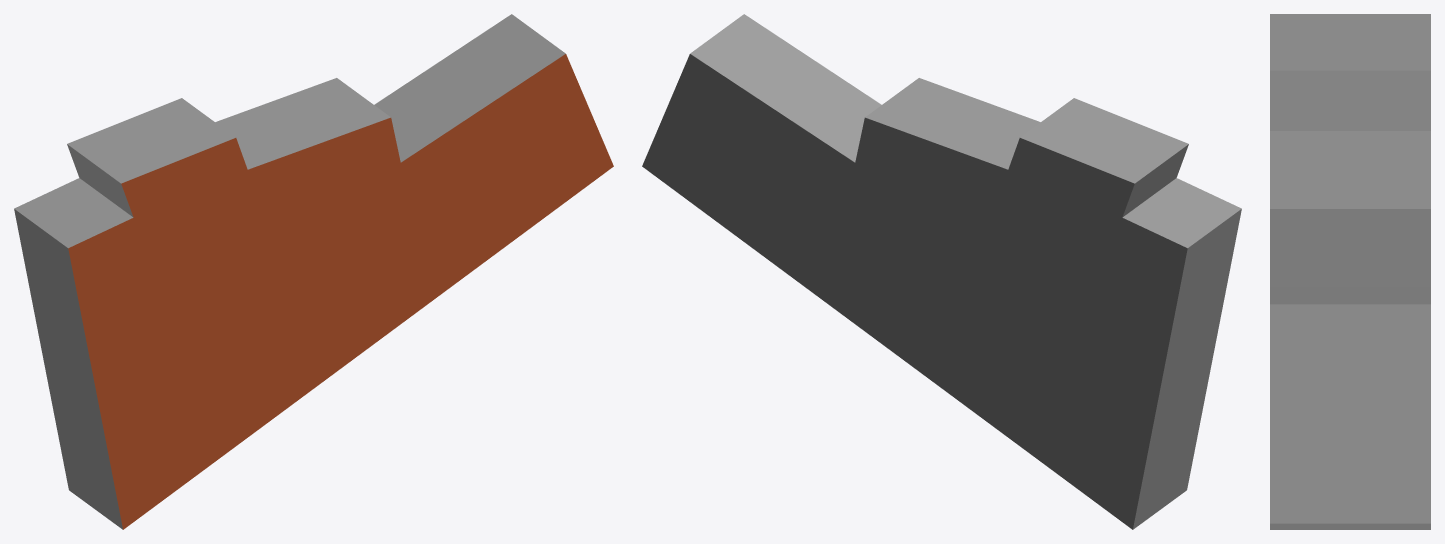
Rendered from construction_6543_assumed_A_Casa_h6m.obj.
3 views of the same model, side by side, from view 1: azimuth 30°, elevation 25°; view 2: azimuth 150°, elevation 25°; view 3: azimuth 270°, elevation 25° (orthographic). The views are drawn at different scales.
Parts seen in each view (by area): view 1: construction_6543_assumed_A_Casa; view 2: construction_6543_assumed_A_Casa; view 3: construction_6543_assumed_A_Casa.
Boxes of the visible parts, x1,y1,x2,y2 form: construction_6543_assumed_A_Casa: [14, 14, 613, 529]; construction_6543_assumed_A_Casa: [642, 14, 1241, 529]; construction_6543_assumed_A_Casa: [1270, 14, 1430, 529].
Bounding box in the file's own units: 34.85 × 22.47 × 6.
